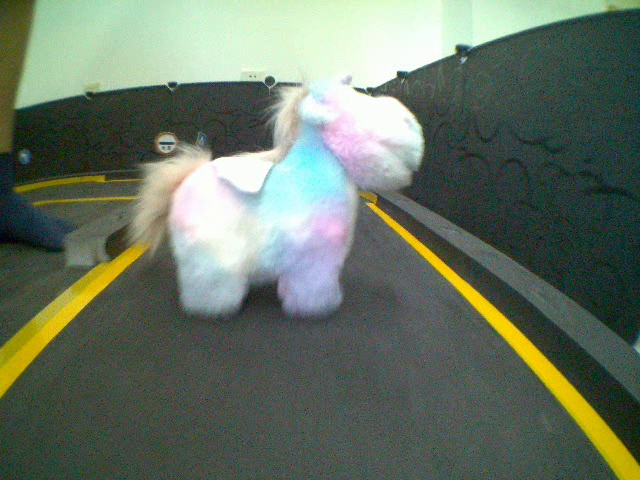unicorn: (133, 68, 428, 322)
